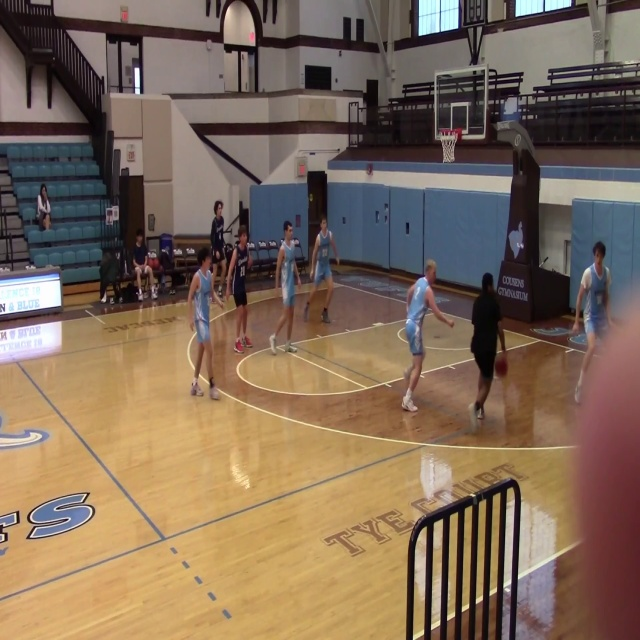Basketball: (494, 354, 508, 376), (148, 258, 160, 269)
